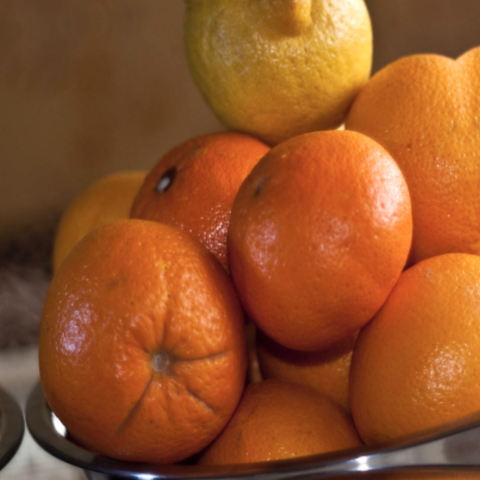orange: (7, 196, 270, 480), (186, 76, 436, 374)
